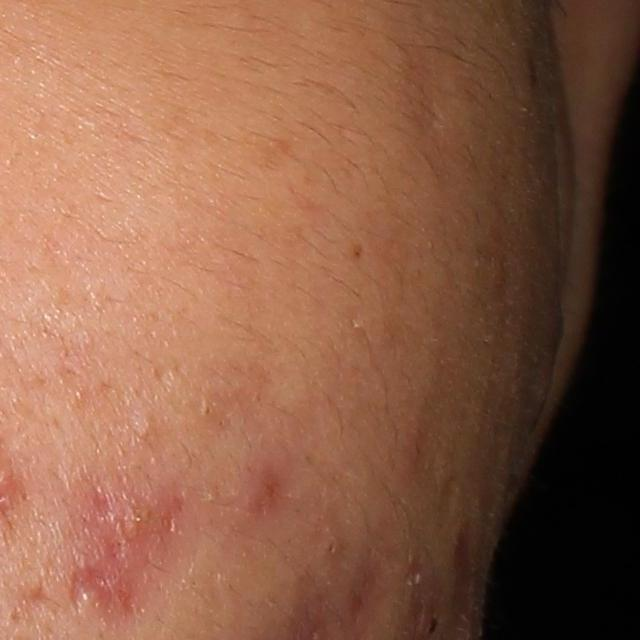comedo: (133, 416, 158, 439)
